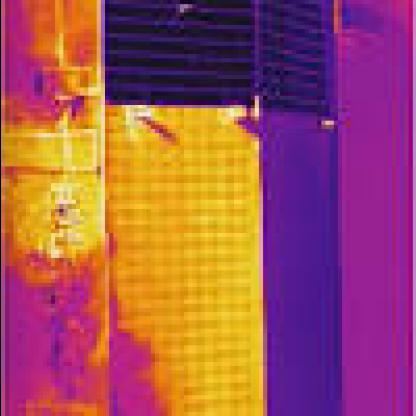Defects: (34, 0, 96, 75), (121, 104, 162, 129), (312, 117, 341, 133)
